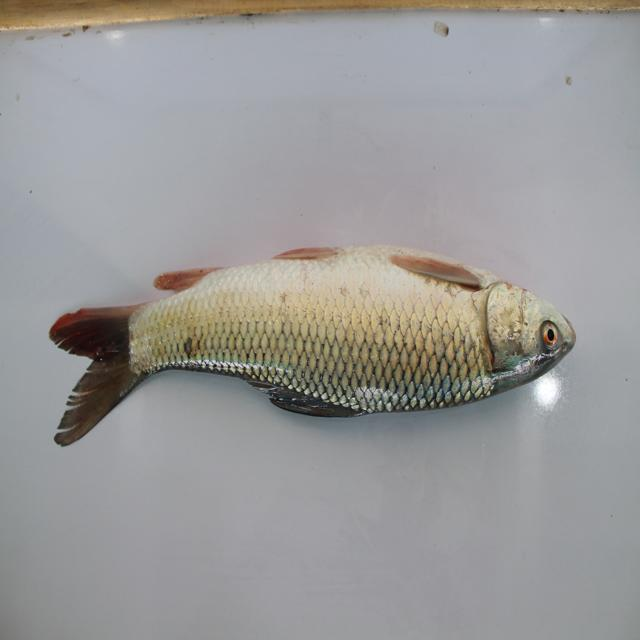Mori: (37, 241, 602, 462)
